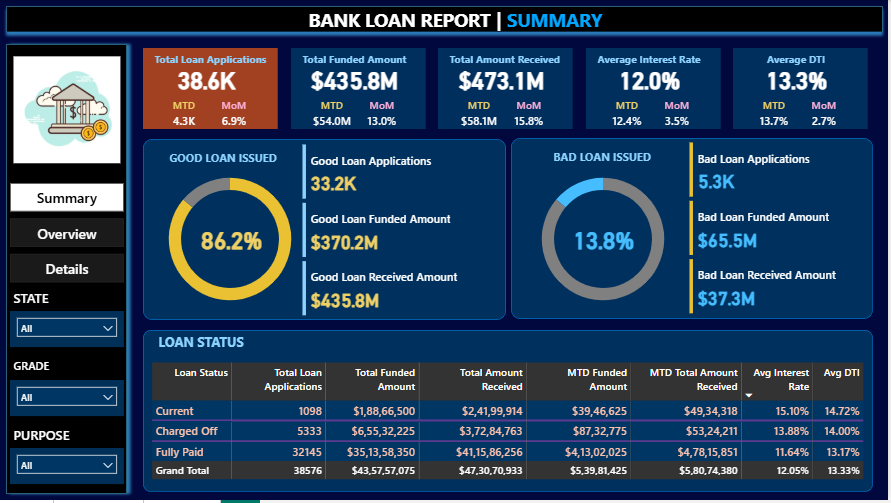

This screenshot's page, from the dashboard's own definition file:
{"tool":"powerbi","page":{"name":"Summary","canvas":[1280,720],"ordinal":0},"visuals":[{"type":"shape","box":[205.9,69.1,194.4,116.6],"z":0,"group":"g1"},{"type":"shape","box":[418.3,69.1,194.4,116.6],"z":0,"group":"g2"},{"type":"shape","box":[630.7,69.1,194.4,116.6],"z":0,"group":"g3"},{"type":"shape","box":[843.1,69.1,194.4,116.6],"z":0,"group":"g4"},{"type":"shape","box":[1055.5,69.1,194.4,116.6],"z":0,"group":"g5"},{"type":"shape","box":[735.8,198.7,521.3,260.6],"z":0},{"type":"slicer","fields":{"Values":["Bank_Loan_Data.address_state"]},"box":[14.4,447.8,164.2,51.8],"z":0,"group":"g6"},{"type":"slicer","fields":{"Values":["Bank_Loan_Data.grade"]},"box":[14.4,547.2,164.2,51.8],"z":0,"group":"g7"},{"type":"textbox","box":[14.4,609.1,122.4,36],"z":0,"group":"g8"},{"type":"card","fields":{"Values":["Bank_Loan_Data.Total Loan Applications"]},"box":[191.5,86.4,211.7,54.7],"z":1000,"group":"g1"},{"type":"card","fields":{"Values":["Bank_Loan_Data.Total Funded Amount"]},"box":[403.9,86.4,211.7,54.7],"z":1000,"group":"g2"},{"type":"card","fields":{"Values":["Bank_Loan_Data.Total Amount Received"]},"box":[616.3,86.4,211.7,54.7],"z":1000,"group":"g3"},{"type":"card","fields":{"Values":["Bank_Loan_Data.Avg Interest Rate"]},"box":[828.7,86.4,211.7,54.7],"z":1000,"group":"g4"},{"type":"card","fields":{"Values":["Bank_Loan_Data.Avg DTI"]},"box":[1041.1,86.4,211.7,54.7],"z":1000,"group":"g5"},{"type":"donutChart","fields":{"Category":["Bank_Loan_Data.Good v Bad Loan"],"Y":["Bank_Loan_Data.Total Loan Applications"]},"box":[743,229,250.6,230.4],"z":1000},{"type":"textbox","box":[14.4,411.8,82.1,36],"z":1000,"group":"g6"},{"type":"textbox","box":[14.4,511.2,82.1,36],"z":1000,"group":"g7"},{"type":"slicer","fields":{"Values":["Bank_Loan_Data.purpose"]},"box":[14.4,645.1,164.2,51.8],"z":1000,"group":"g8"},{"type":"shape","box":[0,0,1280.2,55],"z":2000},{"type":"textbox","box":[217.4,69.1,207.4,36],"z":2000,"group":"g1"},{"type":"textbox","box":[429.8,69.1,207.4,36],"z":2000,"group":"g2"},{"type":"textbox","box":[642.2,69.1,207.4,36],"z":2000,"group":"g3"},{"type":"textbox","box":[854.6,69.1,207.4,36],"z":2000,"group":"g4"},{"type":"textbox","box":[1067,69.1,207.4,36],"z":2000,"group":"g5"},{"type":"shape","box":[0,54.7,191.5,665.3],"z":3000},{"type":"card","title":"MTD","fields":{"Values":["Bank_Loan_Data.MTD Loan Applications"]},"box":[226.1,141.1,77.8,44.6],"z":3000,"group":"g1"},{"type":"card","title":"MTD","fields":{"Values":["Bank_Loan_Data.MTD Funded Amount"]},"box":[438.5,141.1,77.8,44.6],"z":3000,"group":"g2"},{"type":"card","title":"MTD","fields":{"Values":["Bank_Loan_Data.MTD Total Amount Received"]},"box":[650.9,141.1,77.8,44.6],"z":3000,"group":"g3"},{"type":"card","title":"MTD","fields":{"Values":["Bank_Loan_Data.MTD Avg Int Rate"]},"box":[863.3,141.1,77.8,44.6],"z":3000,"group":"g4"},{"type":"card","title":"MTD","fields":{"Values":["Bank_Loan_Data.MTD Avg DTI"]},"box":[1075.7,141.1,77.8,44.6],"z":3000,"group":"g5"},{"type":"card","title":"MoM","fields":{"Values":["Bank_Loan_Data.MoM Loan Applications"]},"box":[298.1,141.1,77.8,44.6],"z":4000,"group":"g1"},{"type":"card","title":"MoM","fields":{"Values":["Bank_Loan_Data.MoM Total Funded Amount"]},"box":[510.5,141.1,77.8,44.6],"z":4000,"group":"g2"},{"type":"card","title":"MoM","fields":{"Values":["Bank_Loan_Data.MoM Total Amount Received"]},"box":[722.9,141.1,77.8,44.6],"z":4000,"group":"g3"},{"type":"card","title":"MoM","fields":{"Values":["Bank_Loan_Data.MoM Avg Int Rate"]},"box":[935.3,141.1,77.8,44.6],"z":4000,"group":"g4"},{"type":"card","title":"MoM","fields":{"Values":["Bank_Loan_Data.MoM Avg DTI"]},"box":[1147.7,141.1,77.8,44.6],"z":4000,"group":"g5"},{"type":"shape","box":[205.9,475.2,1051.2,233.3],"z":4000},{"type":"shape","box":[205.9,200.2,522.7,260.6],"z":5000},{"type":"card","fields":{"Values":["Bank_Loan_Data.Bad Loan %"]},"box":[763.2,316.8,211.7,54.7],"z":6000},{"type":"textbox","box":[223.2,475.2,226.1,36],"z":7000},{"type":"textbox","box":[439.2,4.3,447.8,50.4],"z":8000},{"type":"group","id":"g1","title":"Group 1","box":[191.5,69.1,233.3,116.6],"z":9000},{"type":"group","id":"g2","title":"Group 1","box":[403.9,69.1,233.3,116.6],"z":10000},{"type":"group","id":"g3","title":"Group 1","box":[616.3,69.1,233.3,116.6],"z":11000},{"type":"group","id":"g4","title":"Group 1","box":[828.7,69.1,233.3,116.6],"z":12000},{"type":"group","id":"g5","title":"Group 1","box":[1041.1,69.1,233.3,116.6],"z":13000},{"type":"donutChart","fields":{"Category":["Bank_Loan_Data.Good v Bad Loan"],"Y":["Bank_Loan_Data.Total Loan Applications"]},"box":[205.9,229,250.6,230.4],"z":14000},{"type":"cardVisual","fields":{"Data":["Bank_Loan_Data.Good Loan Applications","Bank_Loan_Data.Good Loan Funded Amount","Bank_Loan_Data.Good Loan Received Amount"]},"box":[430.6,203,279.4,256.3],"z":15000},{"type":"textbox","box":[792,210.2,182.9,40.3],"z":16000},{"type":"card","fields":{"Values":["Bank_Loan_Data.Good Loan %"]},"box":[227.5,316.8,211.7,54.7],"z":17000},{"type":"cardVisual","fields":{"Data":["Bank_Loan_Data.Bad Loan Applications","Bank_Loan_Data.Bad Loan Funded Amount","Bank_Loan_Data.Bad Loan Received Amount"]},"box":[987.8,200.2,279.4,256.3],"z":18000},{"type":"tableEx","fields":{"Values":["Bank_Loan_Data.loan_status","Bank_Loan_Data.Total Loan Applications","Bank_Loan_Data.Total Funded Amount","Bank_Loan_Data.Total Amount Received","Bank_Loan_Data.MTD Funded Amount","Bank_Loan_Data.MTD Total Amount Received","Bank_Loan_Data.Avg Interest Rate","Bank_Loan_Data.Avg DTI"]},"box":[213.1,517,1035.4,191.5],"z":19000},{"type":"textbox","box":[239,211.7,180,36],"z":20000},{"type":"group","id":"g6","title":"Group 2","box":[14.4,411.8,164.2,87.8],"z":21000},{"type":"group","id":"g7","title":"Group 3","box":[14.4,511.2,164.2,87.8],"z":22000},{"type":"group","id":"g8","title":"Group 5","box":[14.4,609.1,164.2,87.8],"z":23000},{"type":"image","box":[14.4,69.1,164.2,177.1],"z":24000},{"type":"pageNavigator","box":[14.4,263.5,164.2,145.4],"z":25000}]}

Visuals, with their boxes in screenshot pixels (x1, y1, x2, y2), scaled from the page's 1280x720 canvas onto the 891x503 screenshot:
shape: [143,48,279,130]
shape: [291,48,426,130]
shape: [439,48,574,130]
shape: [587,48,722,130]
shape: [735,48,870,130]
shape: [512,139,875,321]
slicer - Bank_Loan_Data.address_state: [10,313,124,349]
slicer - Bank_Loan_Data.grade: [10,382,124,418]
textbox: [10,426,95,451]
card - Bank_Loan_Data.Total Loan Applications: [133,60,281,99]
card - Bank_Loan_Data.Total Funded Amount: [281,60,429,99]
card - Bank_Loan_Data.Total Amount Received: [429,60,576,99]
card - Bank_Loan_Data.Avg Interest Rate: [577,60,724,99]
card - Bank_Loan_Data.Avg DTI: [725,60,872,99]
donutChart - Bank_Loan_Data.Good v Bad Loan x Bank_Loan_Data.Total Loan Applications: [517,160,692,321]
textbox: [10,288,67,313]
textbox: [10,357,67,382]
slicer - Bank_Loan_Data.purpose: [10,451,124,487]
shape: [0,0,890,38]
textbox: [151,48,296,73]
textbox: [299,48,444,73]
textbox: [447,48,591,73]
textbox: [595,48,739,73]
textbox: [743,48,887,73]
shape: [0,38,133,502]
"MTD" card: [157,99,212,130]
"MTD" card: [305,99,359,130]
"MTD" card: [453,99,507,130]
"MTD" card: [601,99,655,130]
"MTD" card: [749,99,803,130]
"MoM" card: [208,99,262,130]
"MoM" card: [355,99,410,130]
"MoM" card: [503,99,557,130]
"MoM" card: [651,99,705,130]
"MoM" card: [799,99,853,130]
shape: [143,332,875,495]
shape: [143,140,507,322]
card - Bank_Loan_Data.Bad Loan %: [531,221,679,260]
textbox: [155,332,313,357]
textbox: [306,3,617,38]
"Group 1" group: [133,48,296,130]
"Group 1" group: [281,48,444,130]
"Group 1" group: [429,48,591,130]
"Group 1" group: [577,48,739,130]
"Group 1" group: [725,48,887,130]
donutChart - Bank_Loan_Data.Good v Bad Loan x Bank_Loan_Data.Total Loan Applications: [143,160,318,321]
cardVisual - Bank_Loan_Data.Good Loan Applications x Bank_Loan_Data.Good Loan Funded Amount: [300,142,494,321]
textbox: [551,147,679,175]
card - Bank_Loan_Data.Good Loan %: [158,221,306,260]
cardVisual - Bank_Loan_Data.Bad Loan Applications x Bank_Loan_Data.Bad Loan Funded Amount: [688,140,882,319]
tableEx - Bank_Loan_Data.loan_status x Bank_Loan_Data.Total Loan Applications: [148,361,869,495]
textbox: [166,148,292,173]
"Group 2" group: [10,288,124,349]
"Group 3" group: [10,357,124,418]
"Group 5" group: [10,426,124,487]
image: [10,48,124,172]
pageNavigator: [10,184,124,286]
